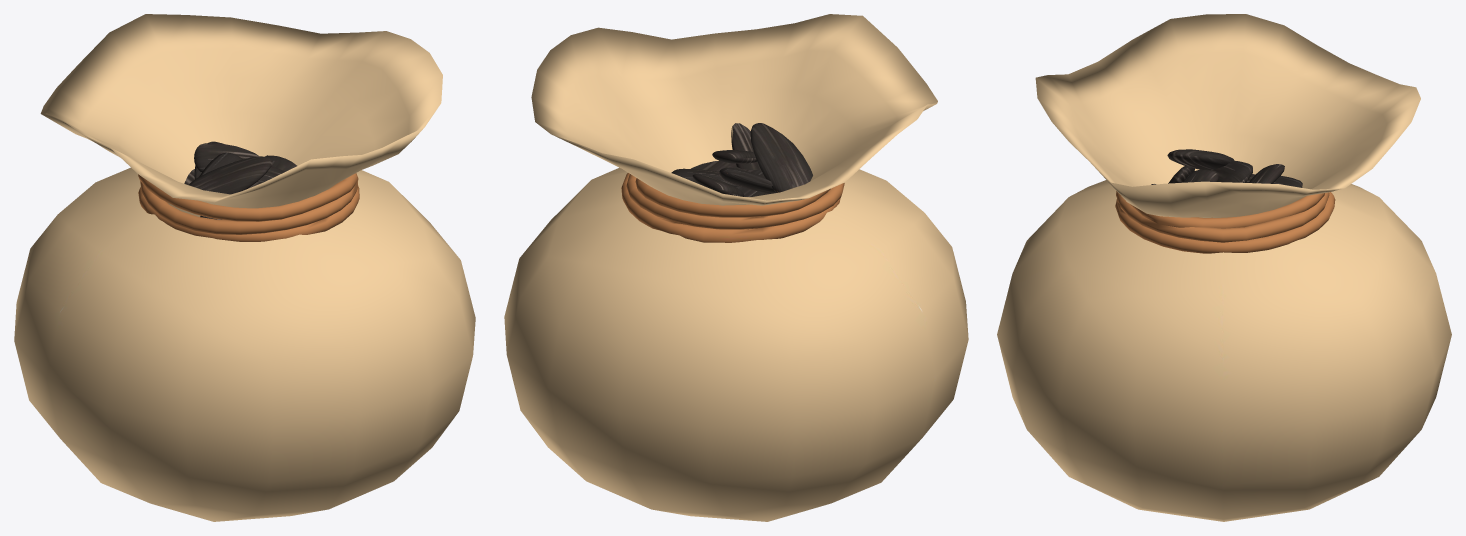
Rendered from seed_bag.glb.
3 renders of one model, left to right at view 1: azimuth 30°, elevation 25°; view 2: azimuth 150°, elevation 25°; view 3: azimuth 270°, elevation 25°, orthographic. The views are drawn at different scales.
Visible parts, largest first — view 1: seed_bag; view 2: seed_bag; view 3: seed_bag.
Boxes of the visible parts, x1=… form: seed_bag: x1=14, y1=14, x2=475, y2=521; seed_bag: x1=504, y1=14, x2=968, y2=521; seed_bag: x1=997, y1=14, x2=1451, y2=521.
Bounding box in the file's own units: 0.7162 × 0.7112 × 0.7261.
1 material, 1 textured.
